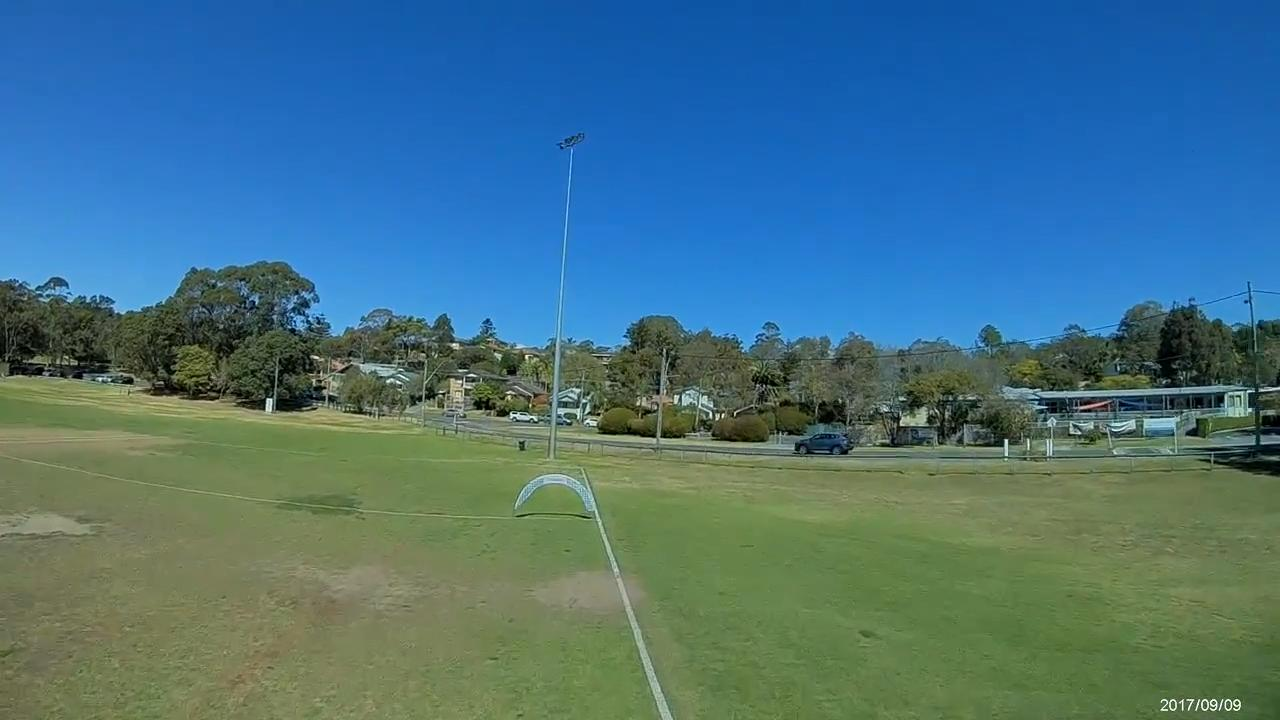gate: (514, 473, 596, 514)
